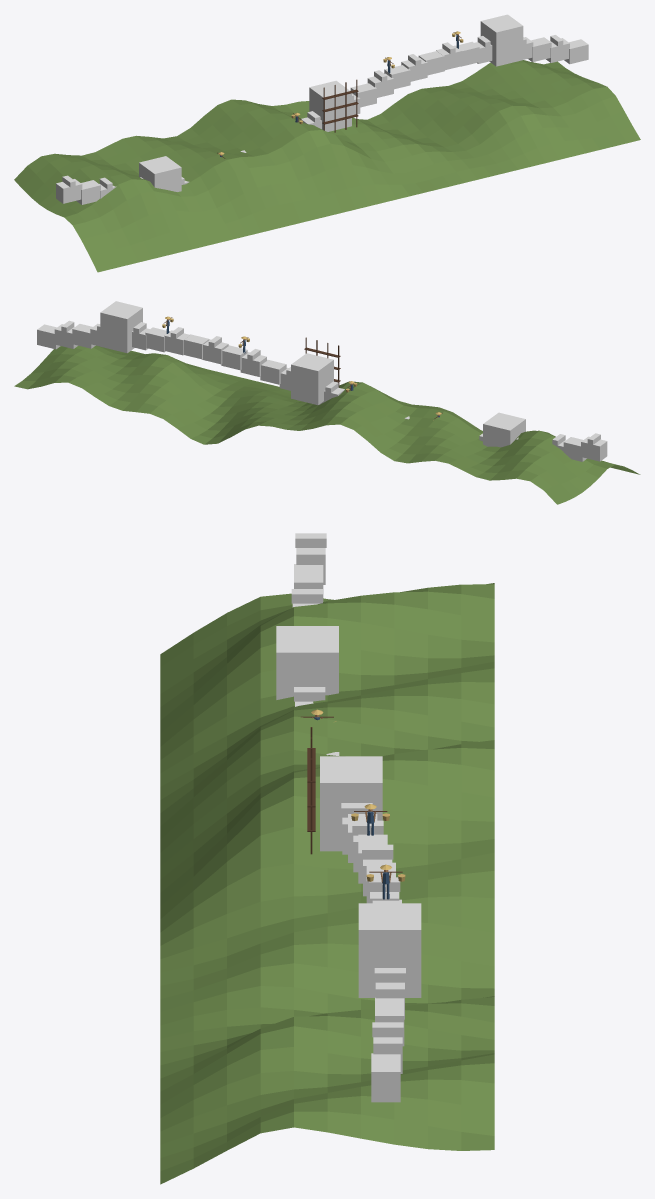
File: china_bg_mid.fbx
3 views of the same model, one above another, from view 1: azimuth 30°, elevation 25°; view 2: azimuth 150°, elevation 25°; view 3: azimuth 270°, elevation 25° (orthographic). The views are drawn at different scales.
Visible parts, largest first — view 1: china_bg_mid; view 2: china_bg_mid; view 3: china_bg_mid.
Boxes of the visible parts, left/top/right/bottom form: china_bg_mid: left=14, top=14, right=640, bottom=272; china_bg_mid: left=14, top=301, right=640, bottom=504; china_bg_mid: left=160, top=533, right=494, bottom=1184.
Size of the model in its own units: 60.1 by 10.37 by 16.
